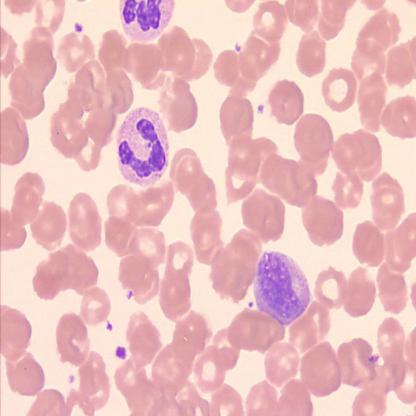Metamyelocyte: (251, 248, 312, 325)
